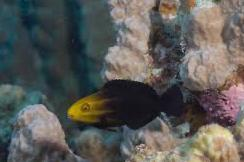Scaridae -Parrotfishes-: (65, 72, 189, 136)
